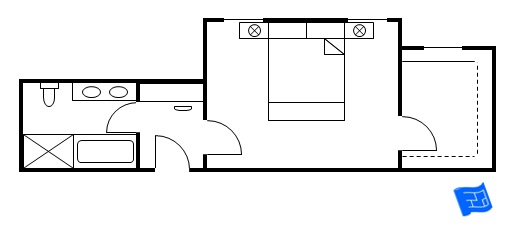door: (392, 115, 441, 153), (205, 114, 244, 157), (153, 133, 192, 174), (101, 102, 139, 134)
